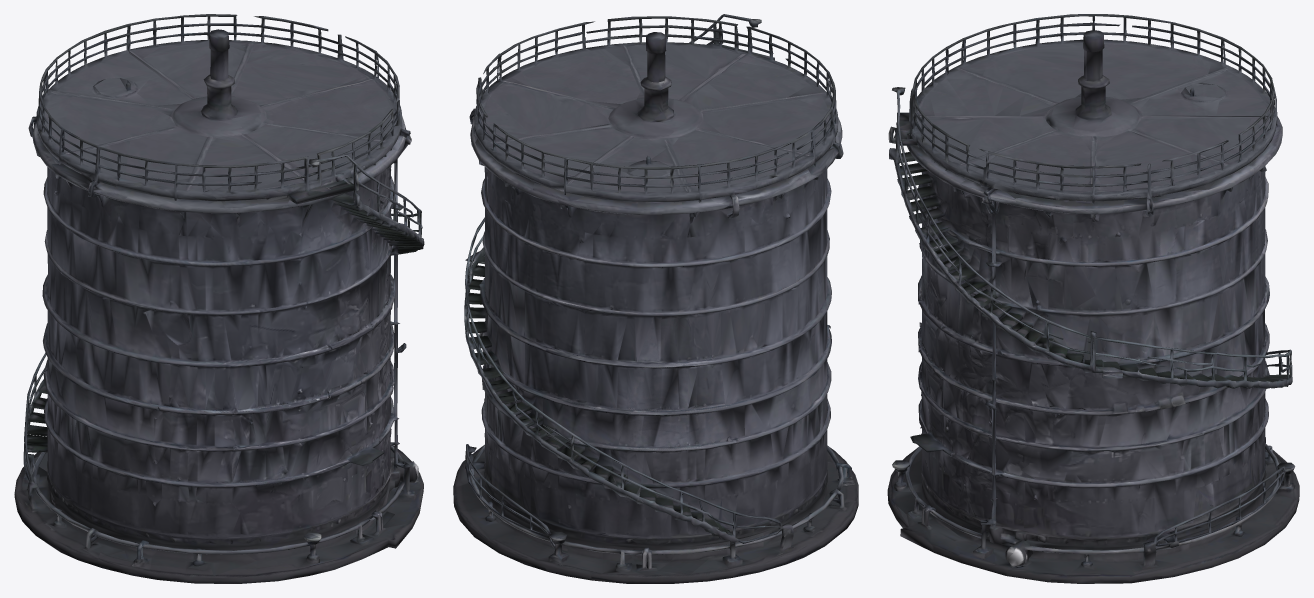
File: bld_ind_tank.fbx
3 renders of one model, left to right at view 1: azimuth 30°, elevation 25°; view 2: azimuth 150°, elevation 25°; view 3: azimuth 270°, elevation 25°, orthographic.
Parts seen in each view (by area): view 1: bld_ind_tank_LOD0; view 2: bld_ind_tank_LOD0; view 3: bld_ind_tank_LOD0.
Part boxes in pixels (left/top/right/bottom): bld_ind_tank_LOD0: left=14, top=14, right=424, bottom=583; bld_ind_tank_LOD0: left=453, top=14, right=858, bottom=583; bld_ind_tank_LOD0: left=887, top=14, right=1299, bottom=583.
Size of what is drawn, in the model's own units: 0.7836 by 0.9772 by 0.7873.
